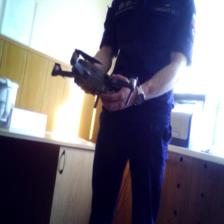drone: (47, 35, 140, 126)
